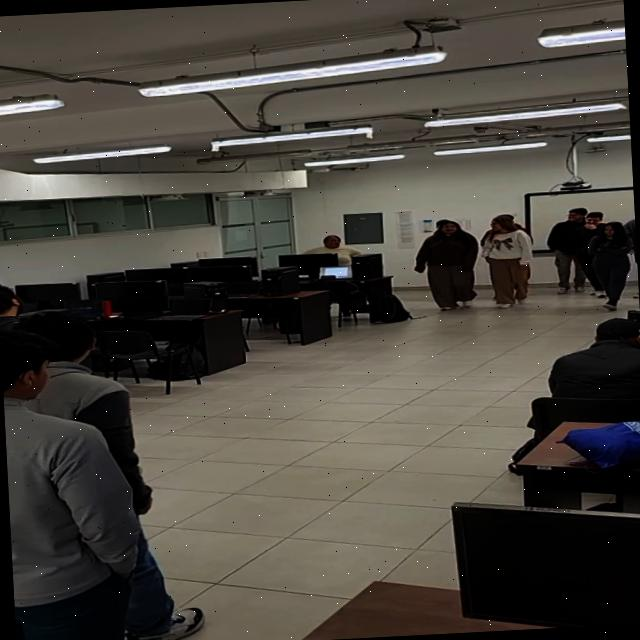Persona: (0, 323, 155, 640), (410, 210, 480, 316), (478, 210, 534, 302), (586, 213, 640, 305), (542, 199, 584, 290)
